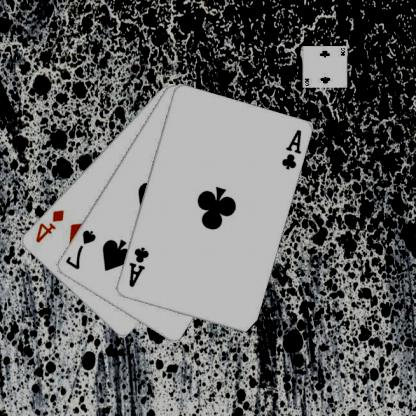4D: (34, 207, 67, 244)
7S: (64, 227, 99, 271)
AC: (128, 245, 152, 289), (281, 127, 304, 171)
